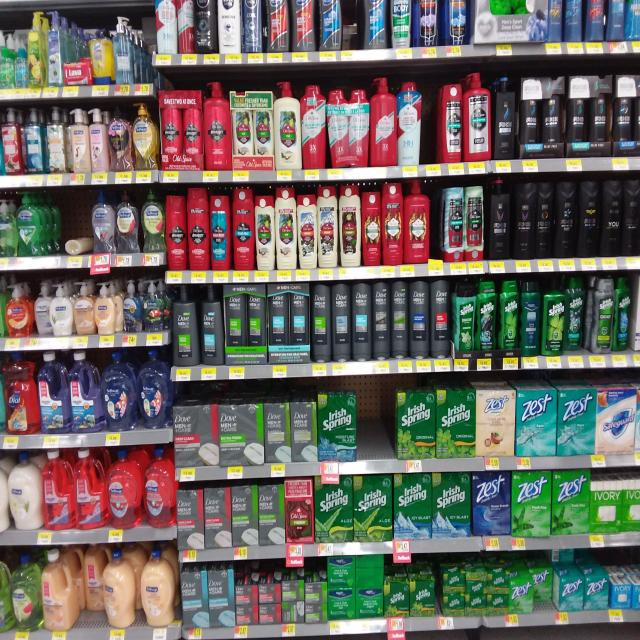void: (361, 384, 391, 474)
